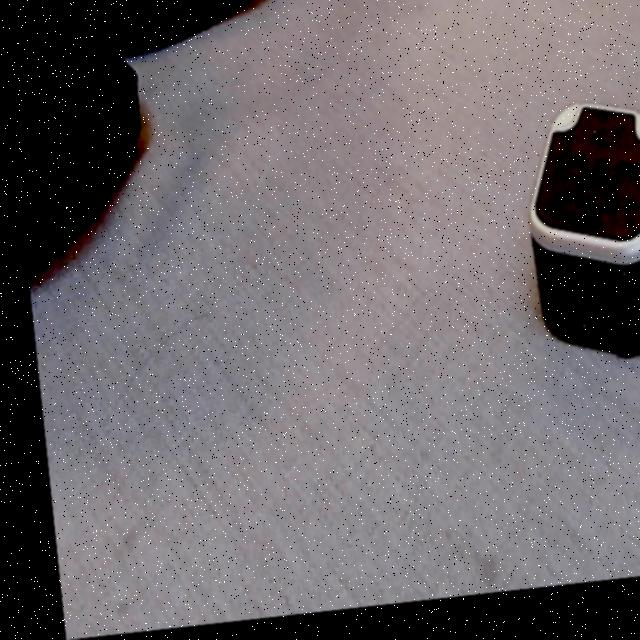adapter: (511, 108, 640, 378)
